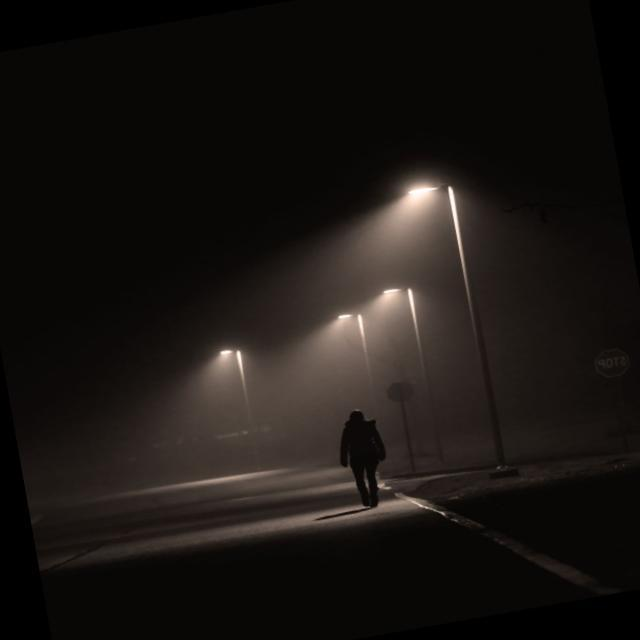on: (345, 135, 498, 246), (300, 288, 446, 362), (210, 308, 278, 394)
